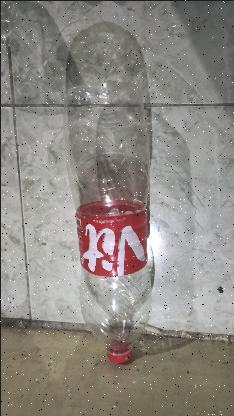Plastic Bottle: (63, 81, 154, 362)
